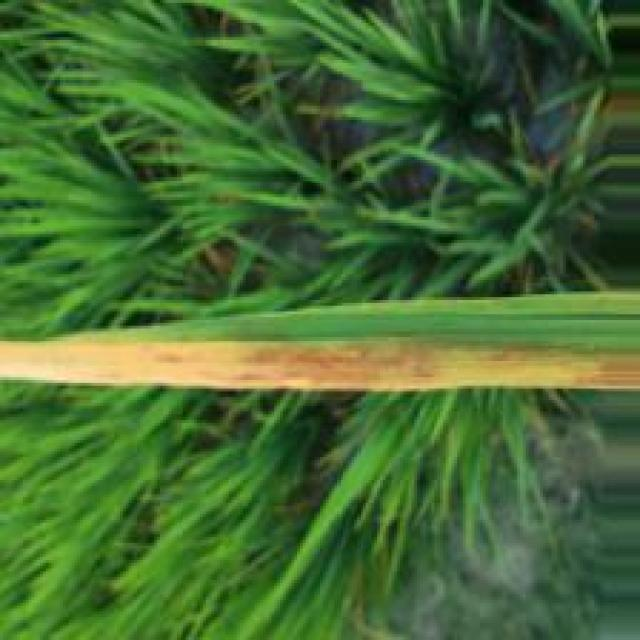Bacterial_Leaf_Blight: (2, 332, 640, 390)
